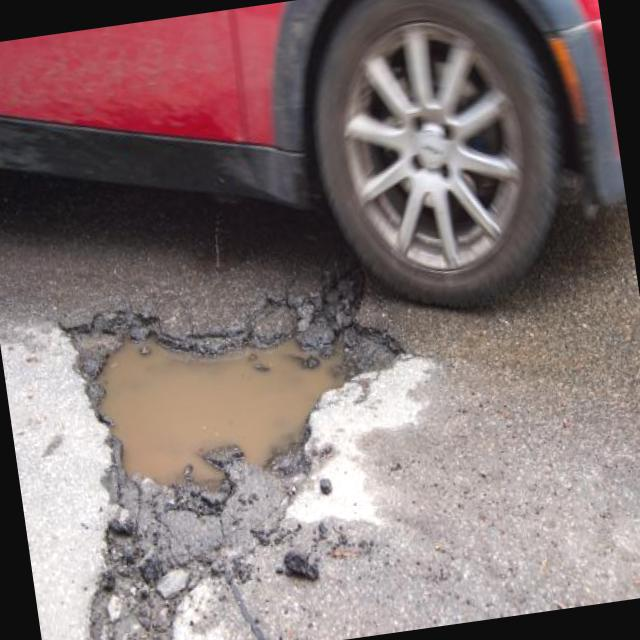bad-road: (54, 266, 424, 534)
